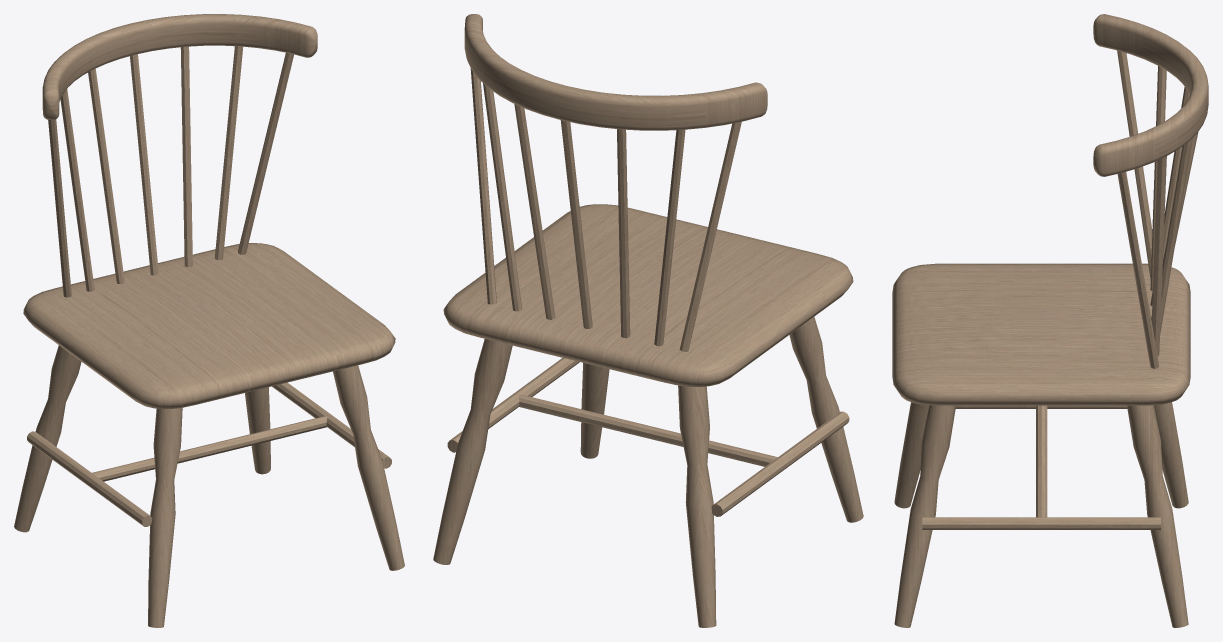
Rendered from silla_windsor_fresno.glb.
3 views of the same model, side by side, from view 1: azimuth 30°, elevation 25°; view 2: azimuth 150°, elevation 25°; view 3: azimuth 270°, elevation 25° (orthographic). The views are drawn at different scales.
Parts seen in each view (by area): view 1: silla_windsor_fresno; view 2: silla_windsor_fresno; view 3: silla_windsor_fresno.
Part boxes in pixels (x1,y1,x2,y2): silla_windsor_fresno: [14, 14, 404, 627]; silla_windsor_fresno: [433, 14, 863, 627]; silla_windsor_fresno: [892, 14, 1208, 627].
Bounding box in the file's own units: 0.5462 × 0.8982 × 0.53.
Materials: 1 (1 with a texture image).
